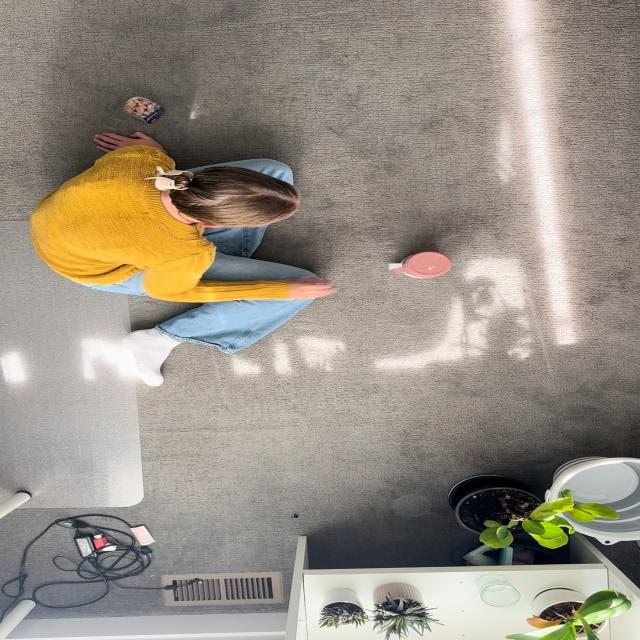IBC: (388, 252, 452, 278)
